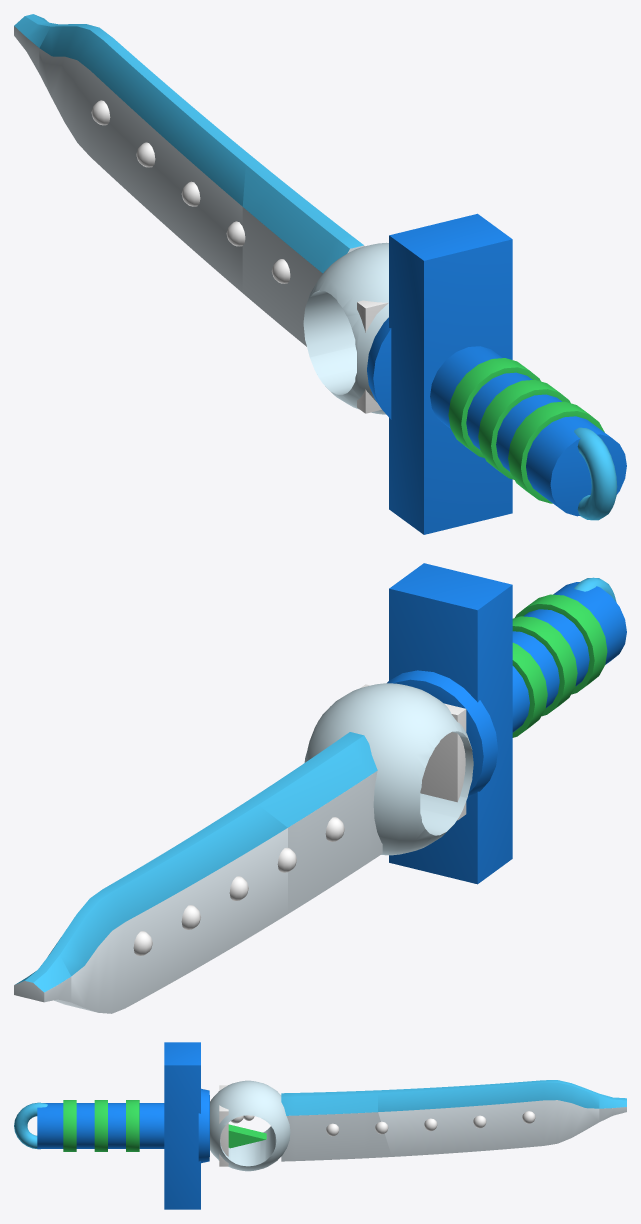
Rendered from Sword_SnowglobeSabre.glb.
3 views of the same model, one above another, from view 1: azimuth 30°, elevation 25°; view 2: azimuth 150°, elevation 25°; view 3: azimuth 270°, elevation 25° (orthographic). The views are drawn at different scales.
Parts seen in each view (by area): view 1: Sword_SnowglobeSabre; view 2: Sword_SnowglobeSabre; view 3: Sword_SnowglobeSabre.
Boxes of the visible parts, <box> form: Sword_SnowglobeSabre: <box>14,14,626,534</box>; Sword_SnowglobeSabre: <box>14,563,626,1013</box>; Sword_SnowglobeSabre: <box>14,1042,626,1209</box>.
Bounding box in the file's own units: 0.1239 × 0.26 × 1.
1 material, 1 textured.
